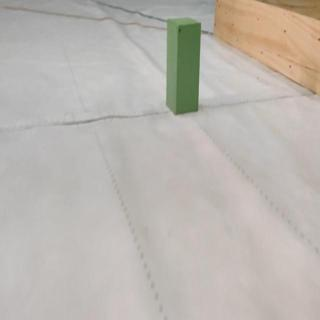greenbox: (165, 15, 201, 115)
